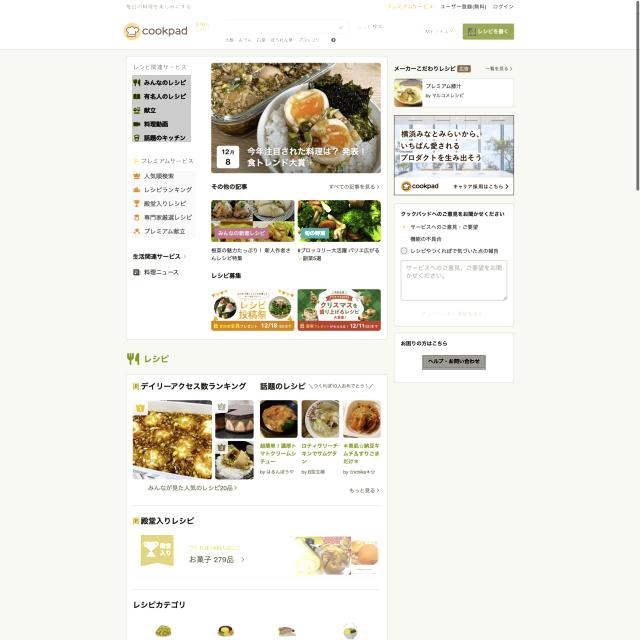CheckBox: (418, 306, 492, 320), (422, 356, 486, 372), (462, 23, 515, 40), (412, 23, 460, 39), (351, 18, 389, 35), (400, 234, 408, 244), (400, 222, 408, 231), (400, 247, 408, 255)
ImageView: (133, 534, 381, 576)
alert: (224, 18, 350, 36)
bag: (0, 0, 636, 49)
breadcrumbs: (131, 60, 194, 73), (132, 155, 200, 167)
carousel: (468, 28, 476, 36), (417, 28, 424, 36), (228, 23, 234, 32)
copy: (210, 61, 381, 174), (297, 200, 382, 242), (211, 200, 295, 242), (298, 288, 381, 321), (211, 289, 294, 321)
data feed: (477, 27, 511, 36), (356, 22, 383, 32), (426, 27, 456, 36)
date picker: (122, 20, 190, 42)
decoration: (131, 172, 196, 240), (132, 75, 191, 142), (124, 2, 517, 12)
footer: (236, 22, 281, 32)
